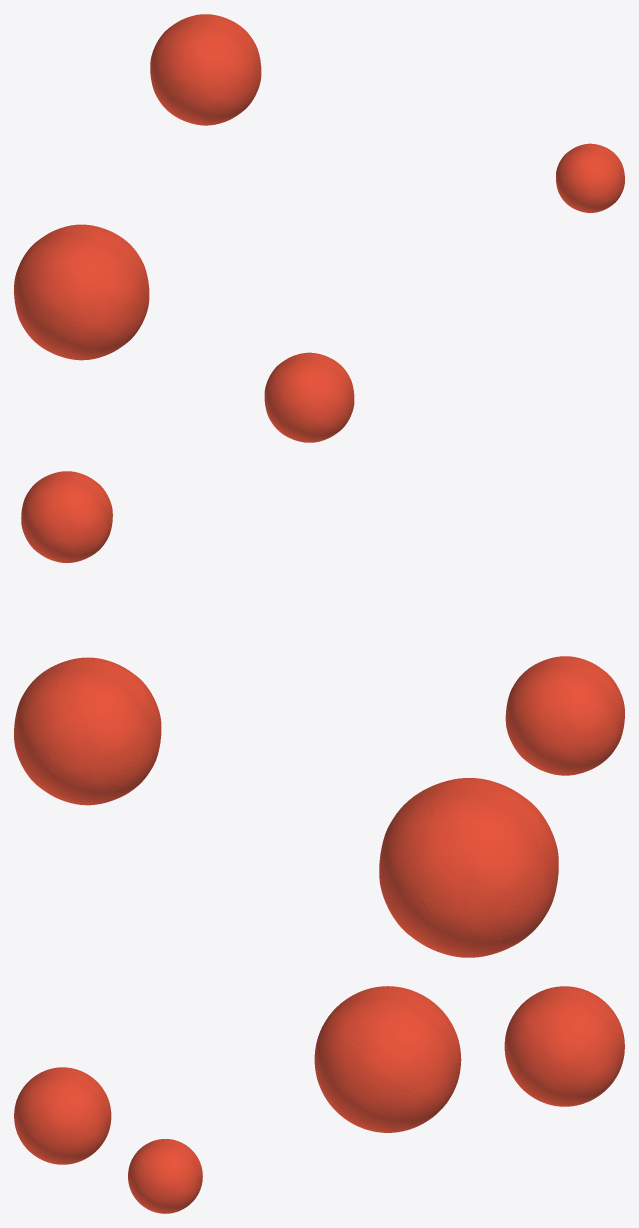
Rendered from soupedWaterSky000.fbx.
3 views of the same model, one above another, from view 1: azimuth 30°, elevation 25°; view 2: azimuth 150°, elevation 25°; view 3: azimuth 270°, elevation 25° (orthographic). The views are drawn at different scales.
Visible parts, largest first — view 1: soupedwaterSky; view 2: soupedwaterSky; view 3: soupedwaterSky.
Boxes of the visible parts, bbox=[...] form: soupedwaterSky: bbox=[14, 14, 624, 442]; soupedwaterSky: bbox=[14, 471, 624, 957]; soupedwaterSky: bbox=[14, 986, 624, 1213].
Size of the model in its own units: 124 by 54 by 123.
